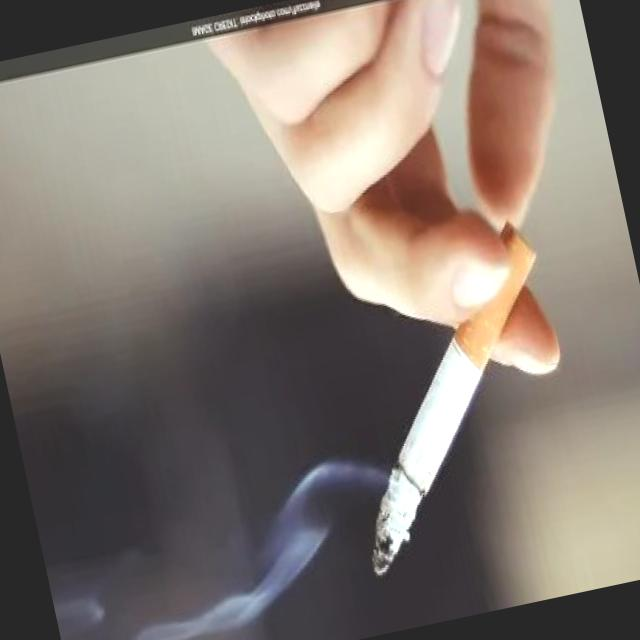cigarette: (302, 212, 596, 580)
